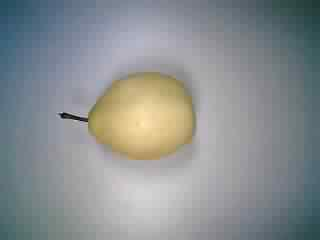pear: (55, 62, 203, 169)
